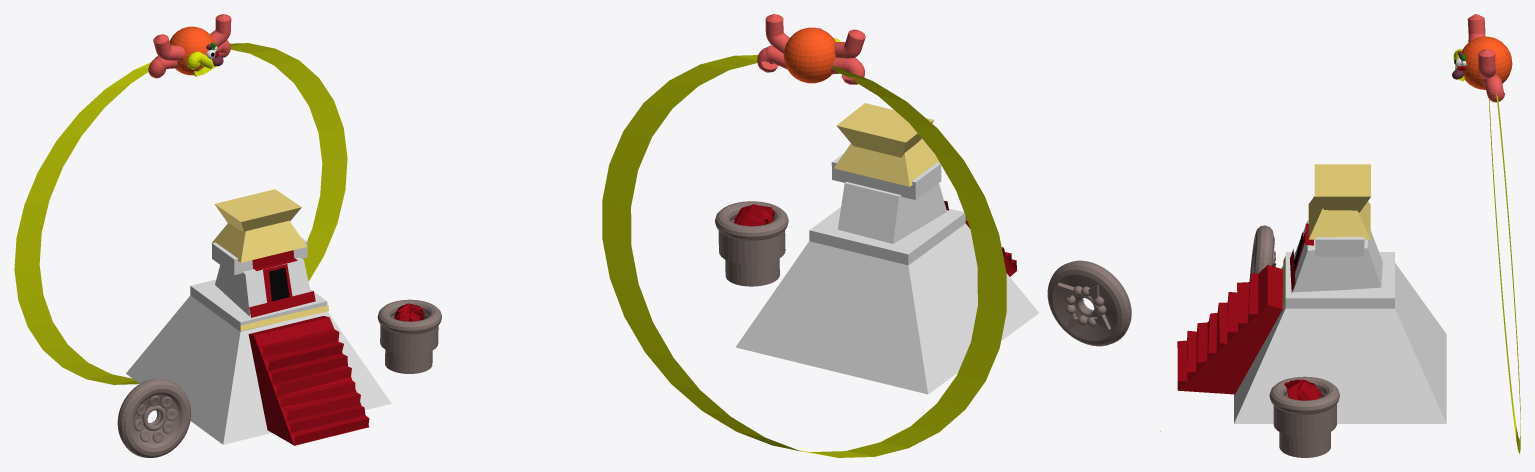
The model's file is teocalliokblend.glb.
3 renders of one model, left to right at view 1: azimuth 30°, elevation 25°; view 2: azimuth 150°, elevation 25°; view 3: azimuth 270°, elevation 25°, orthographic. The views are drawn at different scales.
Parts seen in each view (by area): view 1: Circle, Cube, Cube.006, Cylinder, Torus, Cube.004, Cube.005, Cube.003, Cube.001, Sphere.009, Cube.002, Plane.003 (+2 smaller); view 2: Cube, Circle, Cylinder, Cube.003, Torus, Cube.001, Cube.005, Cube.004, Sphere.009, Cube.002, Sphere, Cylinder.003 (+3 smaller); view 3: Cube, Cube.006, Cylinder, Cube.003, Cube.001, Cube.005, Cube.004, Sphere.009, Circle, Cube.002, Torus, Sphere (+3 smaller).
Part boxes in pixels (x1=…): Circle: x1=14, y1=43, x2=347, y2=384; Cube: x1=126, y1=295, x2=391, y2=444; Cube.006: x1=248, y1=316, x2=369, y2=445; Cylinder: x1=377, y1=299, x2=441, y2=373; Torus: x1=117, y1=378, x2=191, y2=457; Cube.004: x1=212, y1=220, x2=306, y2=262; Cube.005: x1=214, y1=189, x2=301, y2=232; Cube.003: x1=215, y1=257, x2=310, y2=316; Cube.001: x1=190, y1=279, x2=327, y2=331; Sphere.009: x1=169, y1=26, x2=214, y2=75; Cube.002: x1=212, y1=237, x2=307, y2=274; Plane.003: x1=249, y1=291, x2=315, y2=317; Cube: x1=735, y1=223, x2=1038, y2=394; Circle: x1=602, y1=55, x2=1006, y2=457; Cylinder: x1=715, y1=201, x2=788, y2=286; Cube.003: x1=838, y1=181, x2=946, y2=243; Torus: x1=1047, y1=260, x2=1131, y2=346; Cube.001: x1=809, y1=207, x2=965, y2=265; Cube.005: x1=836, y1=103, x2=934, y2=157; Cube.004: x1=834, y1=139, x2=939, y2=186; Sphere.009: x1=783, y1=27, x2=835, y2=83; Cube.002: x1=831, y1=153, x2=941, y2=199; Sphere: x1=734, y1=204, x2=775, y2=226; Cylinder.003: x1=765, y1=14, x2=789, y2=53; Cube: x1=1234, y1=263, x2=1446, y2=423; Cube.006: x1=1177, y1=265, x2=1282, y2=394; Cylinder: x1=1160, y1=376, x2=1339, y2=457; Cube.003: x1=1293, y1=220, x2=1382, y2=292; Cube.001: x1=1285, y1=252, x2=1394, y2=308; Cube.005: x1=1314, y1=164, x2=1370, y2=212; Cube.004: x1=1308, y1=196, x2=1370, y2=239; Sphere.009: x1=1461, y1=36, x2=1512, y2=89; Circle: x1=1489, y1=93, x2=1520, y2=453; Cube.002: x1=1315, y1=237, x2=1364, y2=256; Torus: x1=1249, y1=225, x2=1273, y2=281; Sphere: x1=1284, y1=379, x2=1322, y2=400.
Bounding box in the file's own units: 40.93 × 34.86 × 28.64.
